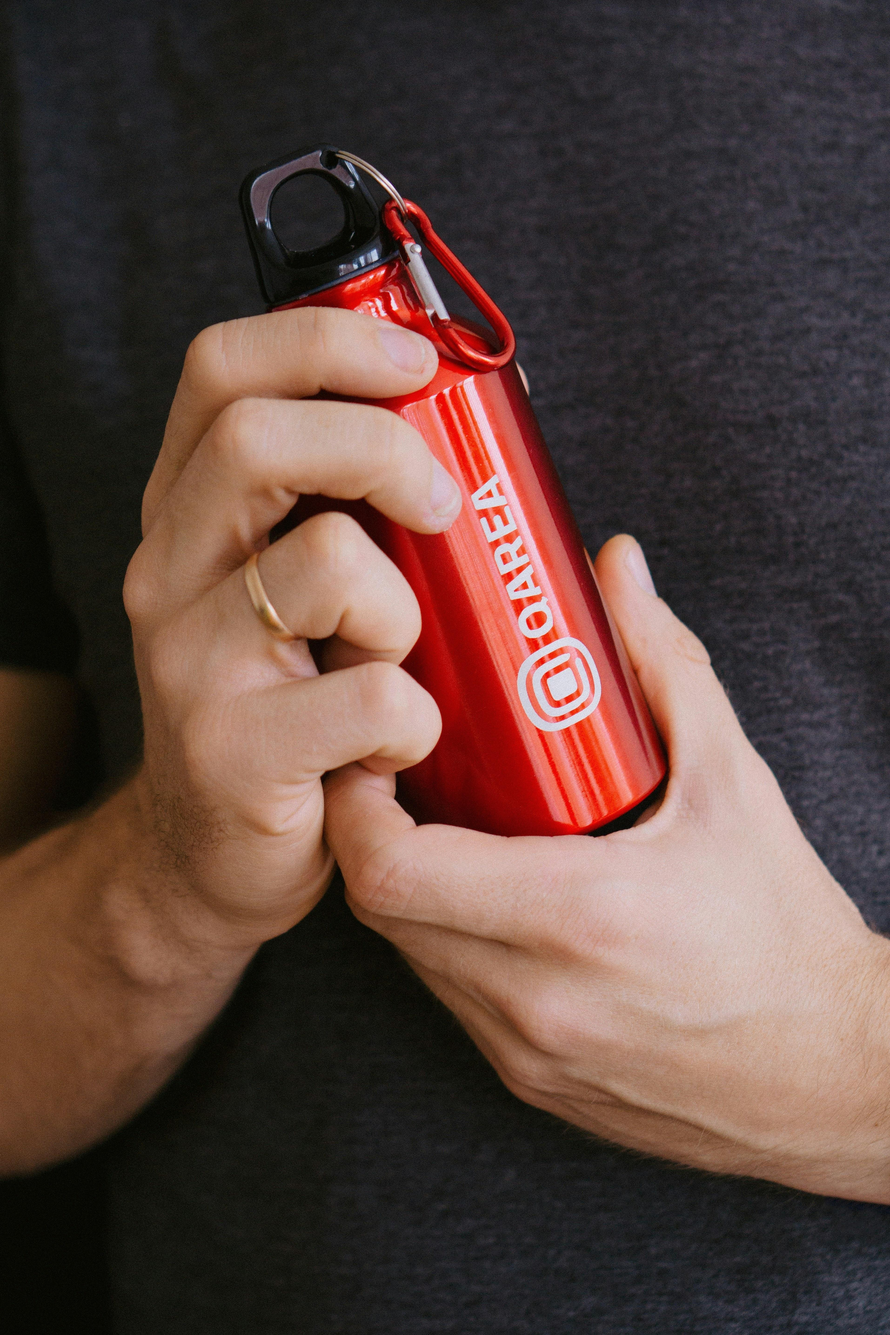Bottle-Detection: (174, 107, 712, 872)
